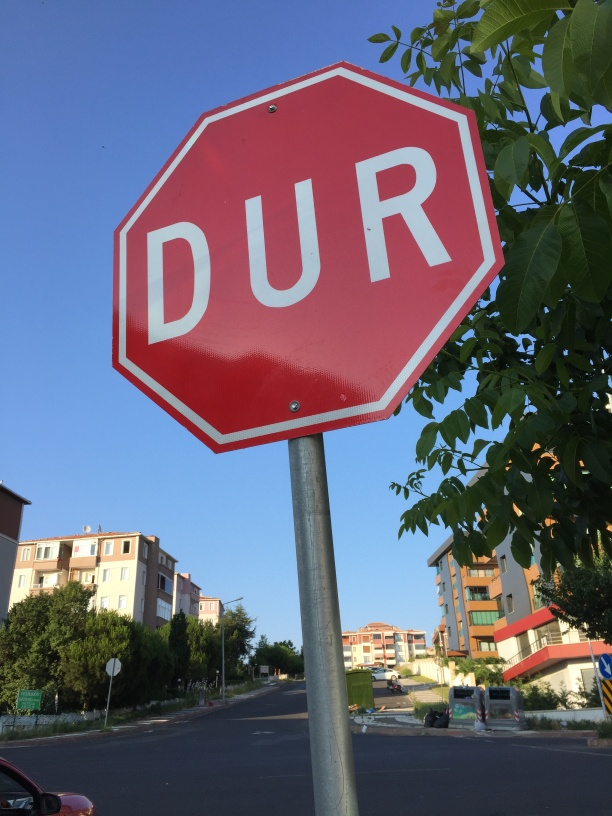arac_dur_isareti: (70, 70, 532, 577)
